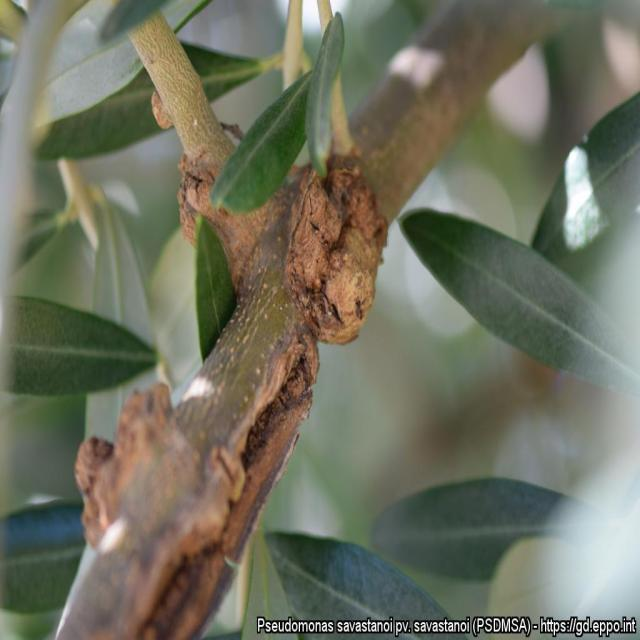Tuberculosis: (286, 158, 386, 343), (76, 384, 172, 551), (178, 143, 234, 246), (151, 90, 182, 136)
